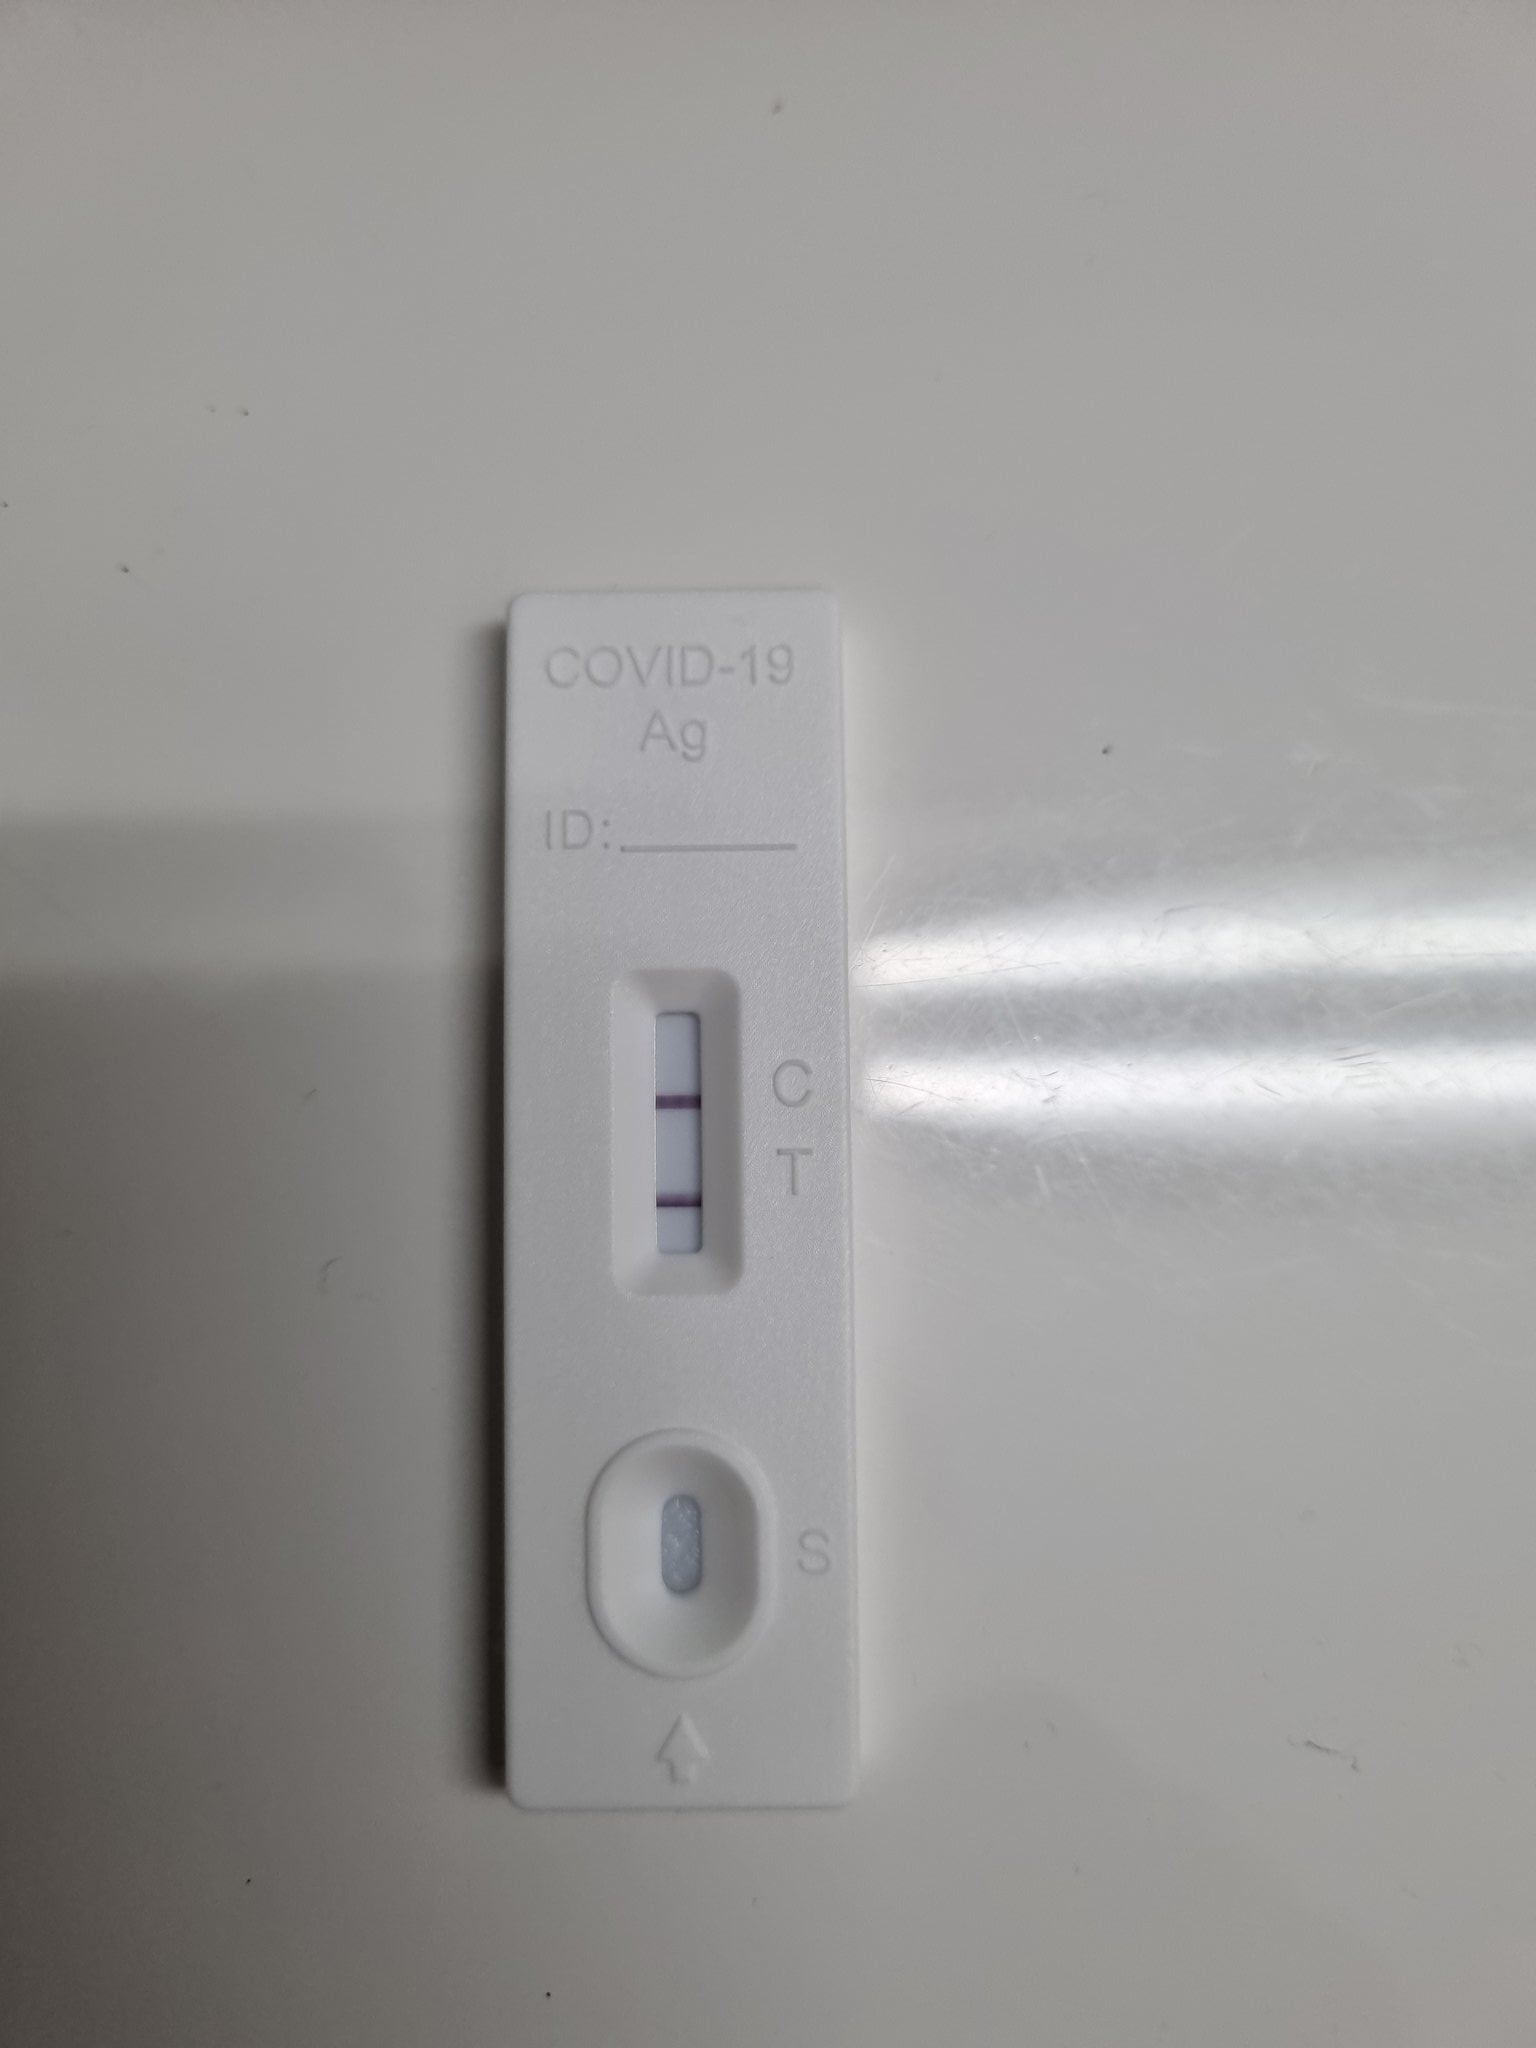Invalid: (653, 1482, 712, 1625)
positive: (618, 980, 731, 1288)
